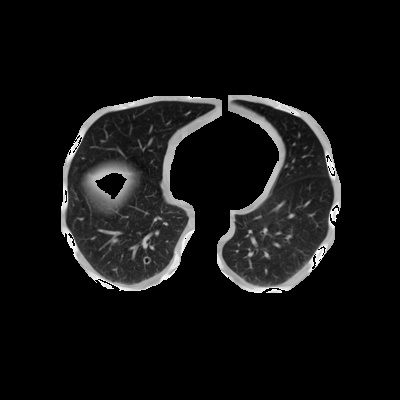PN: (142, 256, 150, 264)
